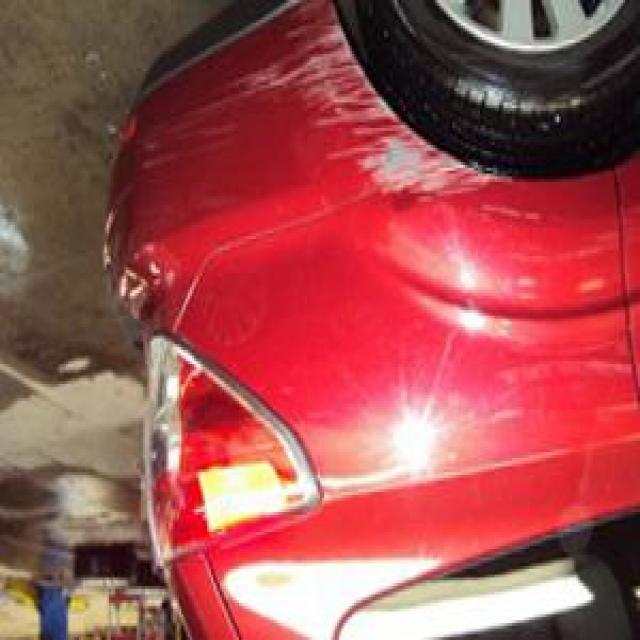scratch: (243, 6, 521, 204)
